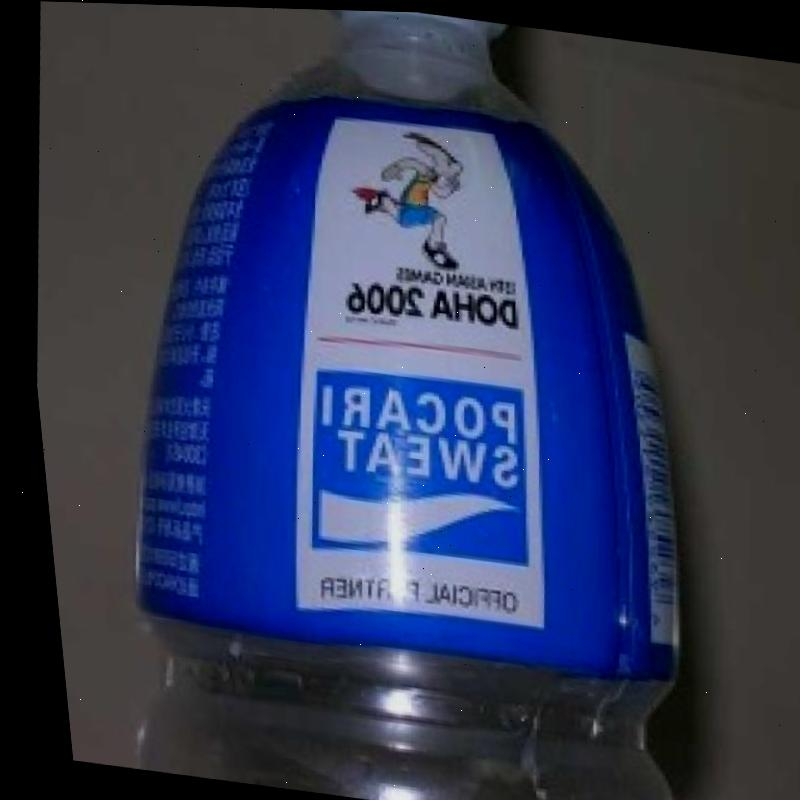botella: (51, 1, 737, 800)
